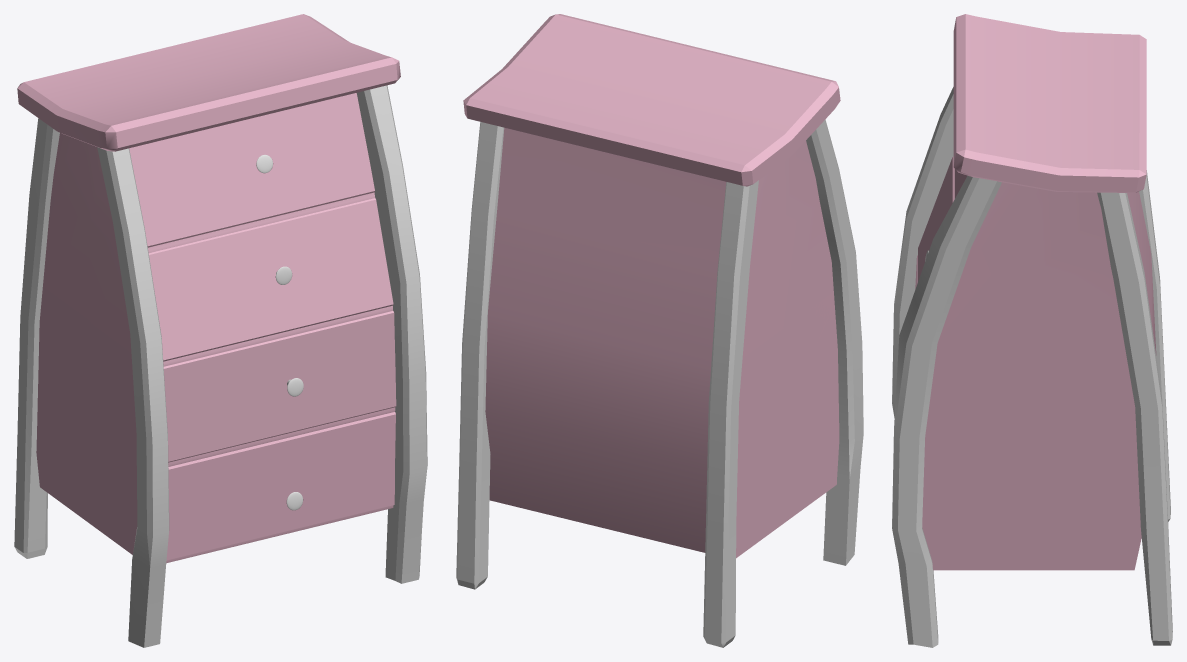
Rendered from drawer.fbx.
3 views of the same model, side by side, from view 1: azimuth 30°, elevation 25°; view 2: azimuth 150°, elevation 25°; view 3: azimuth 270°, elevation 25° (orthographic).
Visible parts, largest first — view 1: polySurface4, polySurface3, guizi_2018_yuan:pCube82, pCube91, pCube92, pCube89; view 2: polySurface3, guizi_2018_yuan:pCube82, pCube89, pCube90, pCube91; view 3: polySurface3, guizi_2018_yuan:pCube82, pCube92, pCube90, pCube91, pCube89, polySurface4.
Part boxes in pixels (x1,y1,x2,y2): polySurface4: (129,93,396,563); polySurface3: (36,133,137,554); guizi_2018_yuan:pCube82: (17,14,400,151); pCube91: (97,147,169,647); pCube92: (356,85,427,583); pCube89: (14,118,59,558); polySurface3: (485,127,839,558); guizi_2018_yuan:pCube82: (463,14,840,186); pCube89: (703,180,758,647); pCube90: (456,122,504,589); pCube91: (806,119,863,565); polySurface3: (922,182,1156,570); guizi_2018_yuan:pCube82: (953,14,1146,192); pCube92: (892,175,1001,647); pCube90: (1097,192,1172,645); pCube91: (892,87,953,417); pCube89: (1139,170,1170,521); polySurface4: (915,156,967,288).
Bounding box in the file's own units: 8.29 × 13.54 × 6.9.
